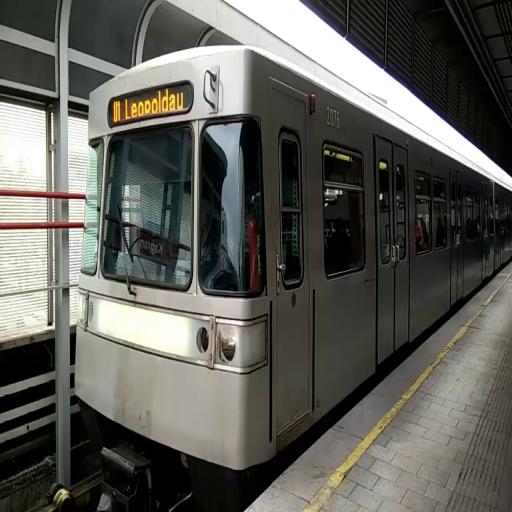Silberpfeil: (75, 44, 512, 474)
